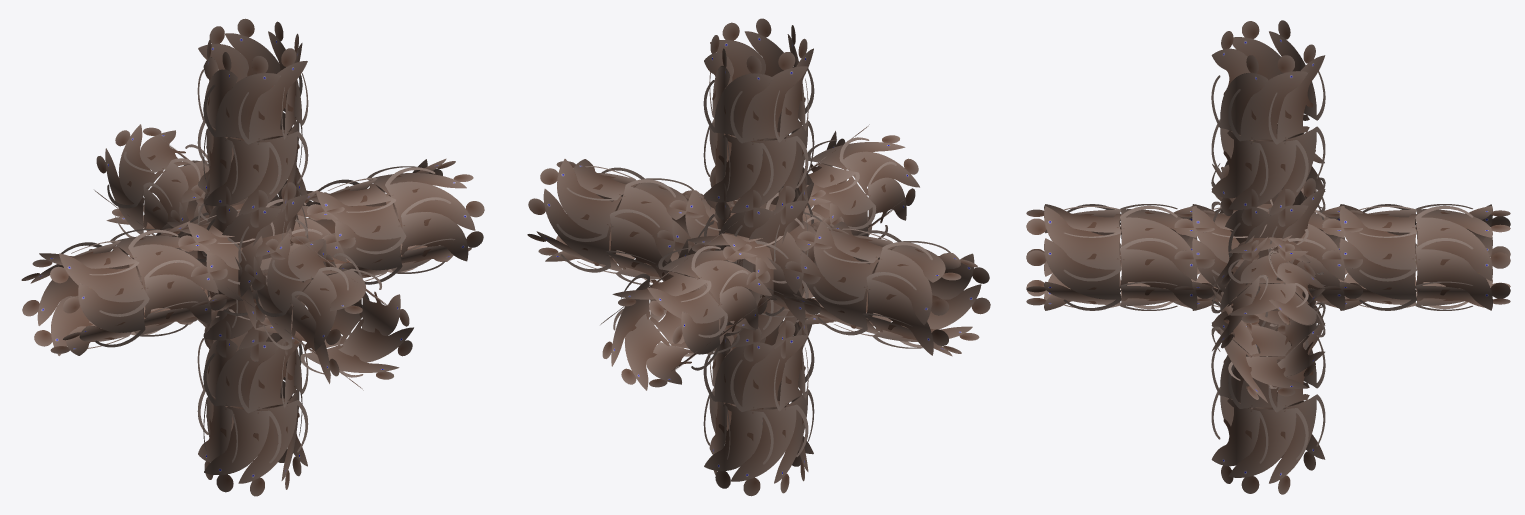
File: StarTetrahemihexacron28.gltf
3 renders of one model, left to right at view 1: azimuth 30°, elevation 25°; view 2: azimuth 150°, elevation 25°; view 3: azimuth 270°, elevation 25°, orthographic.
Parts seen in each view (by area): view 1: StarTetrahemihexacron; view 2: StarTetrahemihexacron; view 3: StarTetrahemihexacron.
Part boxes in pixels (x1=…): StarTetrahemihexacron: x1=21, y1=18, x2=484, y2=496; StarTetrahemihexacron: x1=527, y1=18, x2=990, y2=496; StarTetrahemihexacron: x1=1026, y1=20, x2=1510, y2=494.
Size of the model in its own units: 6 by 6 by 6.
1 material, 1 textured.
